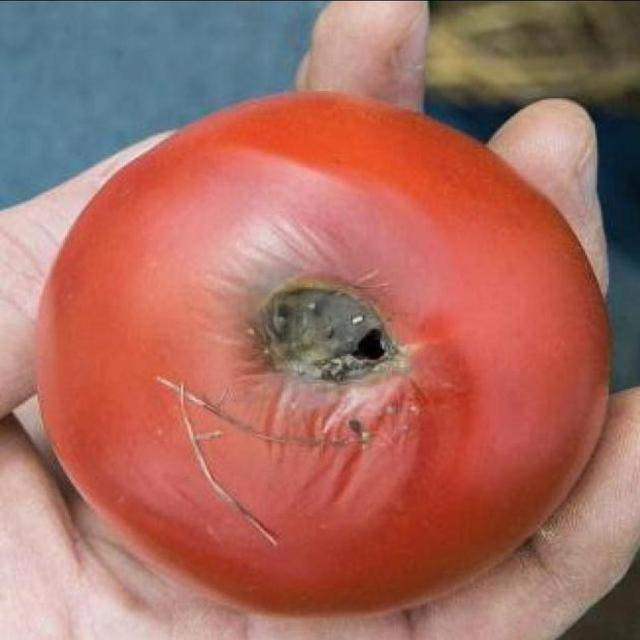Blossom End Rot Fruit: (151, 175, 277, 265)
